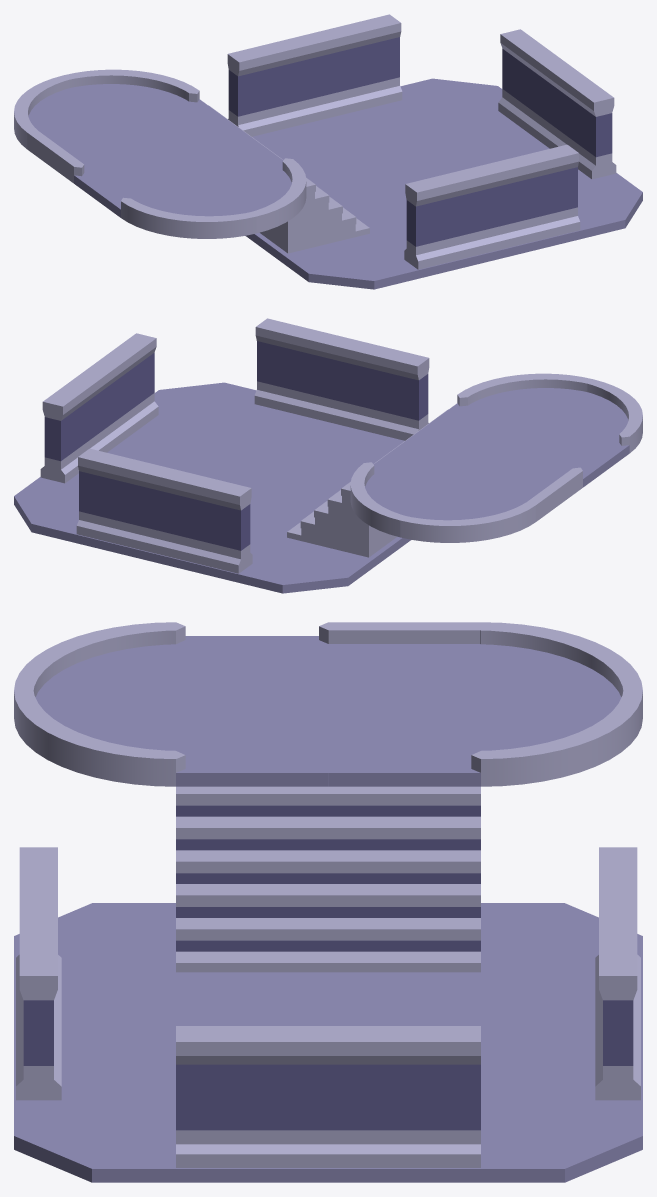
Rendered from hub5.fbx.
The picture shows the model from 3 angles, top to bottom: view 1: azimuth 30°, elevation 25°; view 2: azimuth 150°, elevation 25°; view 3: azimuth 270°, elevation 25°; orthographic projection. The views are drawn at different scales.
Visible parts, largest first — view 1: mergedBlocks; view 2: mergedBlocks; view 3: mergedBlocks.
Part boxes in pixels (x1,y1,x2,y2): mergedBlocks: [14, 14, 642, 289]; mergedBlocks: [14, 318, 642, 593]; mergedBlocks: [14, 622, 642, 1182].
Bounding box in the file's own units: 61.25 × 12 × 41.25.
